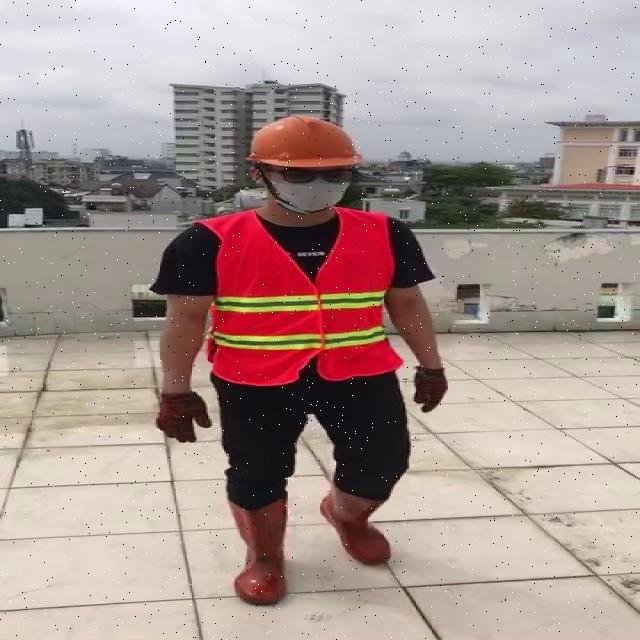Hard_hat: (238, 113, 366, 180)
Vest: (208, 207, 395, 390)
